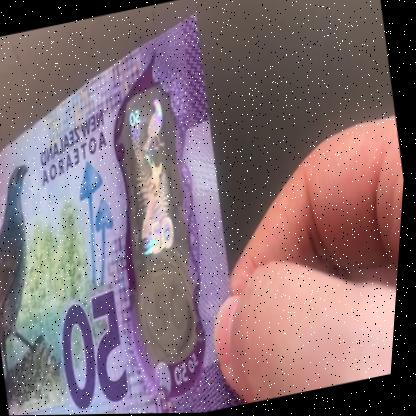50B: (106, 94, 213, 355)
